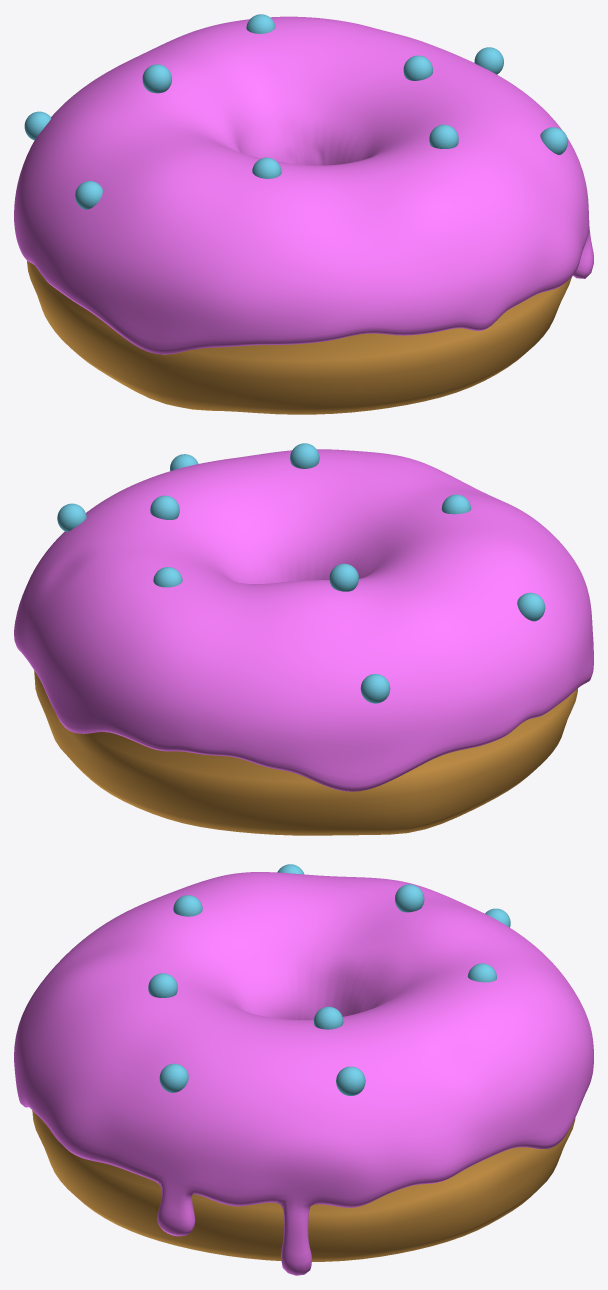
Rendered from donutv2.fbx.
The picture shows the model from 3 angles, top to bottom: view 1: azimuth 30°, elevation 25°; view 2: azimuth 150°, elevation 25°; view 3: azimuth 270°, elevation 25°; orthographic projection.
Parts seen in each view (by area): view 1: galcage, donut, Sphère.001, Sphère.006, Sphère.008, Sphère.004, Sphère.005, Sphère.007; view 2: galcage, donut, Sphère, Sphère.001, Sphère.004, Sphère.008, Sphère.005, Sphère.006; view 3: galcage, donut, Sphère.005, Sphère.001, Sphère.007, Sphère.004, Sphère.006.
Part boxes in pixels (left/top/right/bottom): galcage: left=14, top=16, right=593, bottom=354; donut: left=27, top=261, right=571, bottom=414; Sphère.001: left=142, top=64, right=171, bottom=93; Sphère.006: left=403, top=55, right=432, bottom=80; Sphère.008: left=75, top=181, right=102, bottom=209; Sphère.004: left=429, top=124, right=458, bottom=148; Sphère.005: left=474, top=47, right=503, bottom=74; Sphère.007: left=540, top=127, right=567, bottom=154; galcage: left=14, top=449, right=593, bottom=791; donut: left=34, top=670, right=577, bottom=835; Sphère: left=360, top=674, right=390, bottom=703; Sphère.001: left=329, top=563, right=358, bottom=591; Sphère.004: left=290, top=443, right=319, bottom=468; Sphère.008: left=517, top=592, right=545, bottom=621; Sphère.005: left=57, top=503, right=86, bottom=531; Sphère.006: left=150, top=495, right=179, bottom=519; galcage: left=14, top=872, right=593, bottom=1275; donut: left=32, top=1110, right=575, bottom=1261; Sphère.005: left=336, top=1066, right=365, bottom=1095; Sphère.001: left=395, top=884, right=424, bottom=912; Sphère.007: left=159, top=1063, right=188, bottom=1092; Sphère.004: left=148, top=973, right=177, bottom=997; Sphère.006: left=314, top=1006, right=343, bottom=1029.
Size of the model in its own units: 10.27 by 4.88 by 10.34.
